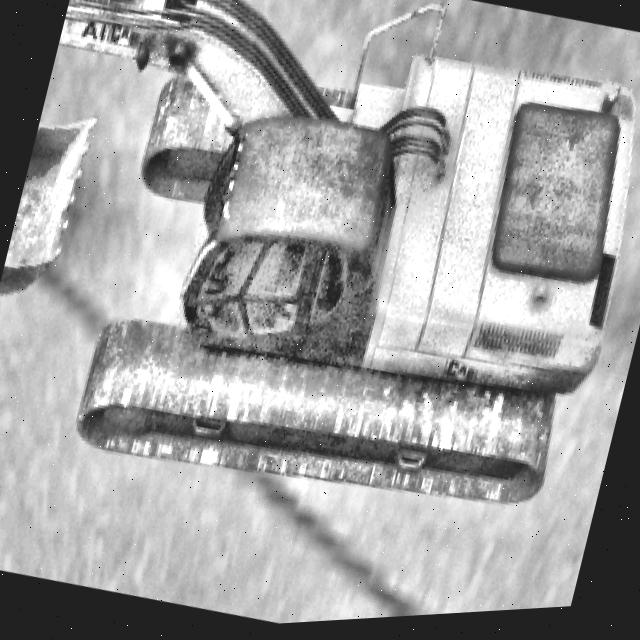excavator: (0, 0, 640, 564)
